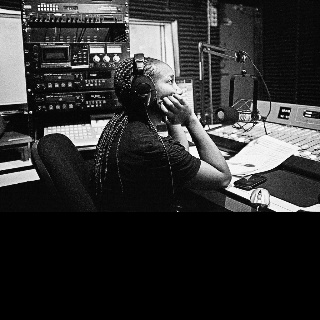without_mask: (113, 53, 183, 119)
